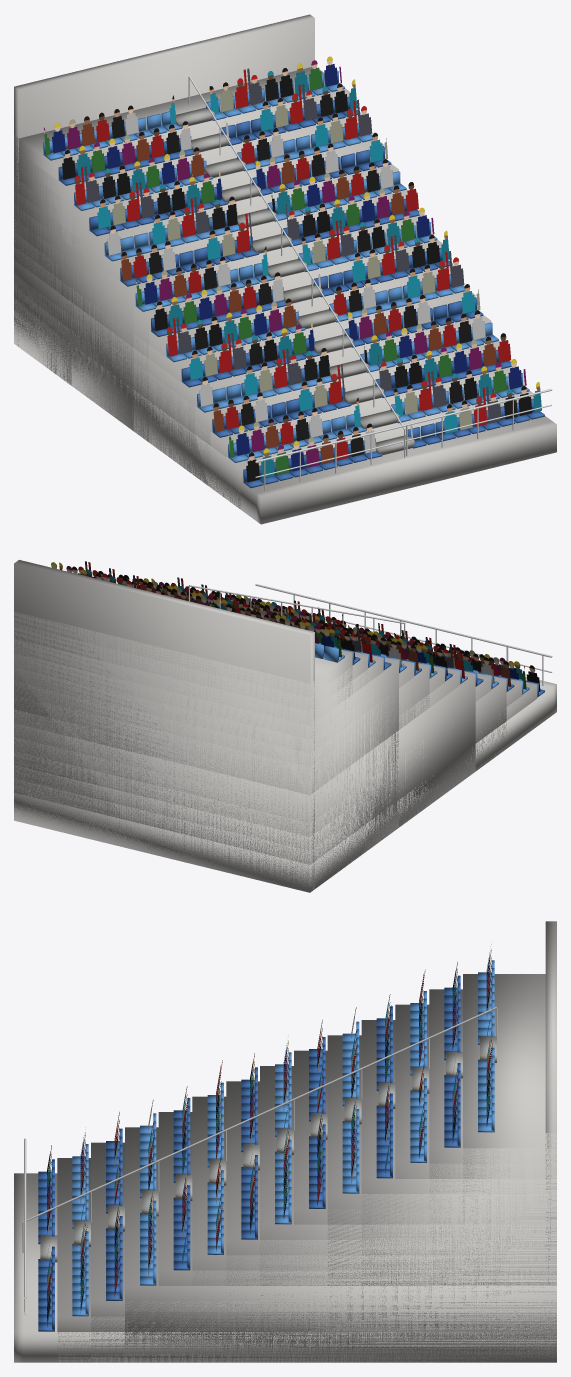
File: bay_10m_large_crowd.glb
3 views of the same model, one above another, from view 1: azimuth 30°, elevation 25°; view 2: azimuth 150°, elevation 25°; view 3: azimuth 270°, elevation 25° (orthographic). The views are drawn at different scales.
Parts seen in each view (by area): view 1: bay_10m_large_crowd; view 2: bay_10m_large_crowd; view 3: bay_10m_large_crowd.
Boxes of the visible parts, x1=… form: bay_10m_large_crowd: x1=14, y1=14, x2=556, y2=524; bay_10m_large_crowd: x1=14, y1=560, x2=556, y2=892; bay_10m_large_crowd: x1=14, y1=921, x2=556, y2=1362.
Bounding box in the file's own units: 10 × 8.3 × 14.45.
6 materials, 1 textured.
